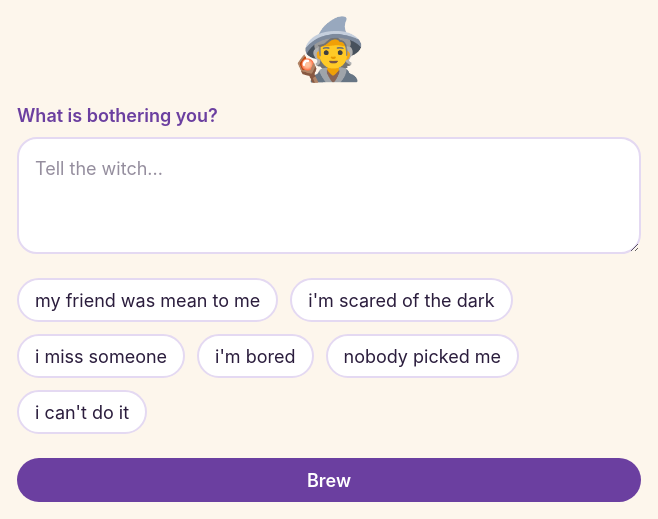
App › fills the text box from a chip without brewing
Click the button "my friend was mean to me".
click(148, 300)  # box x1=17 y1=278 x2=278 y2=322
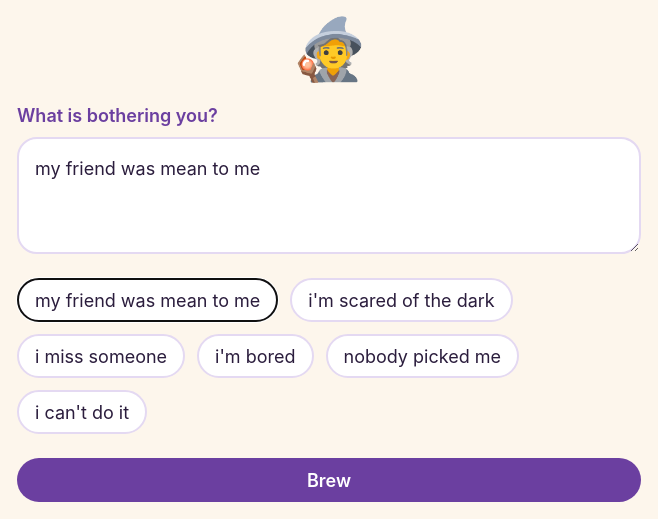
Check: the text box labelled "What is bothering you?" holds "my friend was mean to me", box x1=17 y1=137 x2=641 y2=254
